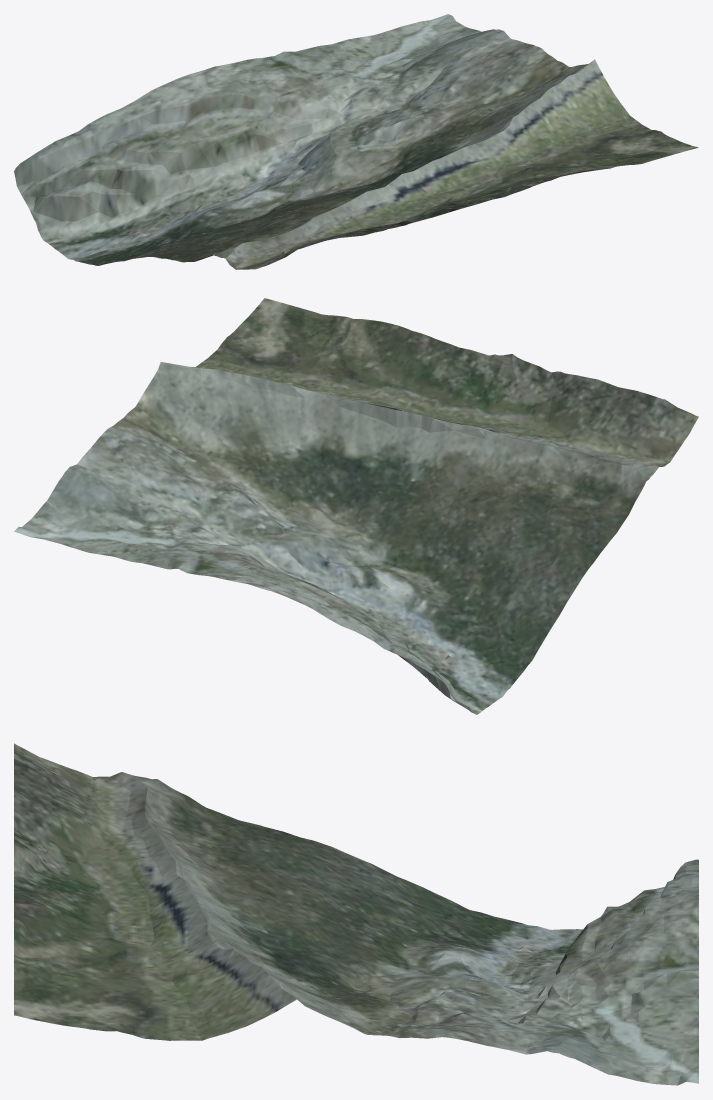
3 views of the same model, one above another, from view 1: azimuth 30°, elevation 25°; view 2: azimuth 150°, elevation 25°; view 3: azimuth 270°, elevation 25° (orthographic). The views are drawn at different scales.
Visible parts, largest first — view 1: Plane; view 2: Plane; view 3: Plane.
Part boxes in pixels (box(x1,y1,x2,y2)): Plane: box(14, 14, 698, 269); Plane: box(14, 298, 698, 714); Plane: box(14, 743, 698, 1085).
Size of the model in its own units: 0.6 by 0.2131 by 0.6.
Materials: 1 (1 with a texture image).
